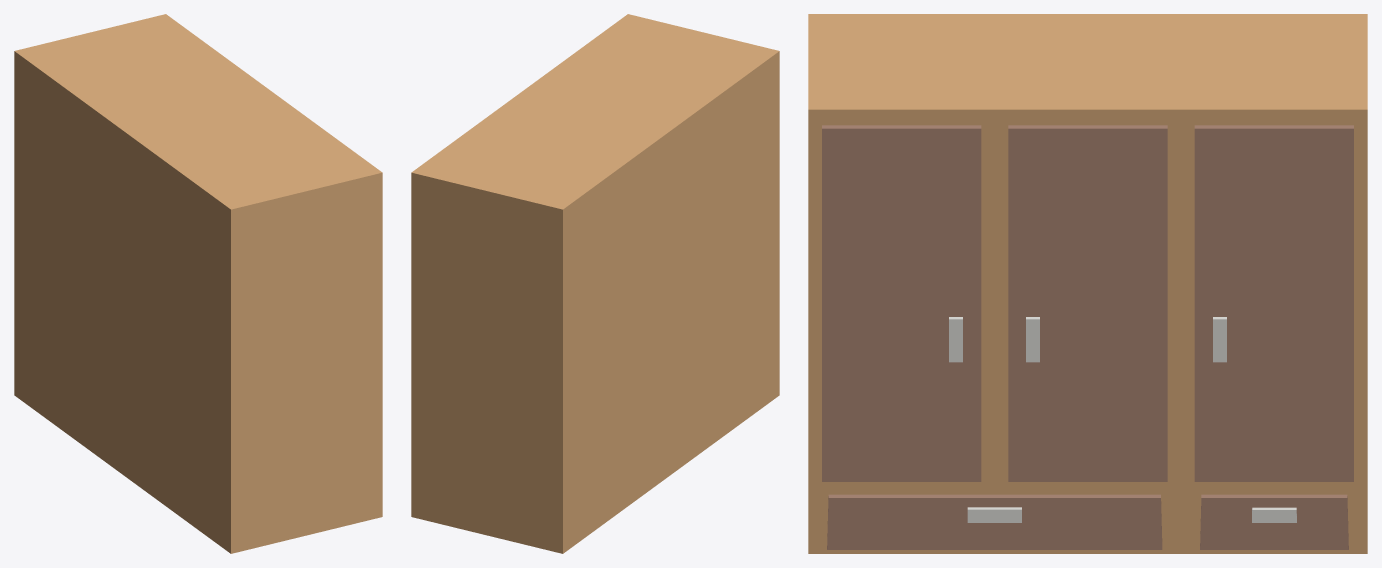
File: wardrobe.fbx
3 renders of one model, left to right at view 1: azimuth 30°, elevation 25°; view 2: azimuth 150°, elevation 25°; view 3: azimuth 270°, elevation 25°, orthographic. The views are drawn at different scales.
Parts seen in each view (by area): view 1: wardrobe.001; view 2: wardrobe.001; view 3: wardrobe.001.
Boxes of the visible parts, x1=… form: wardrobe.001: x1=14, y1=14, x2=382, y2=553; wardrobe.001: x1=411, y1=14, x2=779, y2=553; wardrobe.001: x1=808, y1=14, x2=1367, y2=553.
Bounding box in the file's own units: 268 × 115 × 235.
